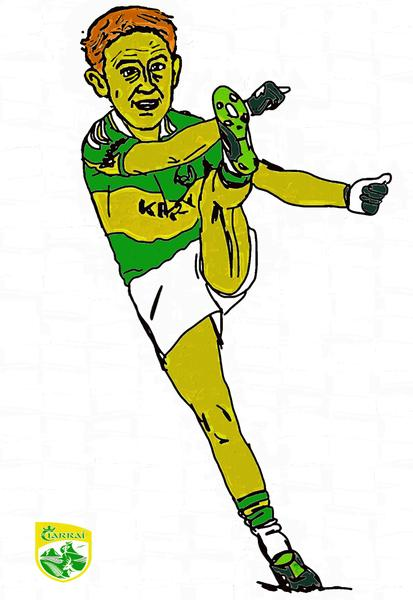player: (78, 15, 355, 571)
